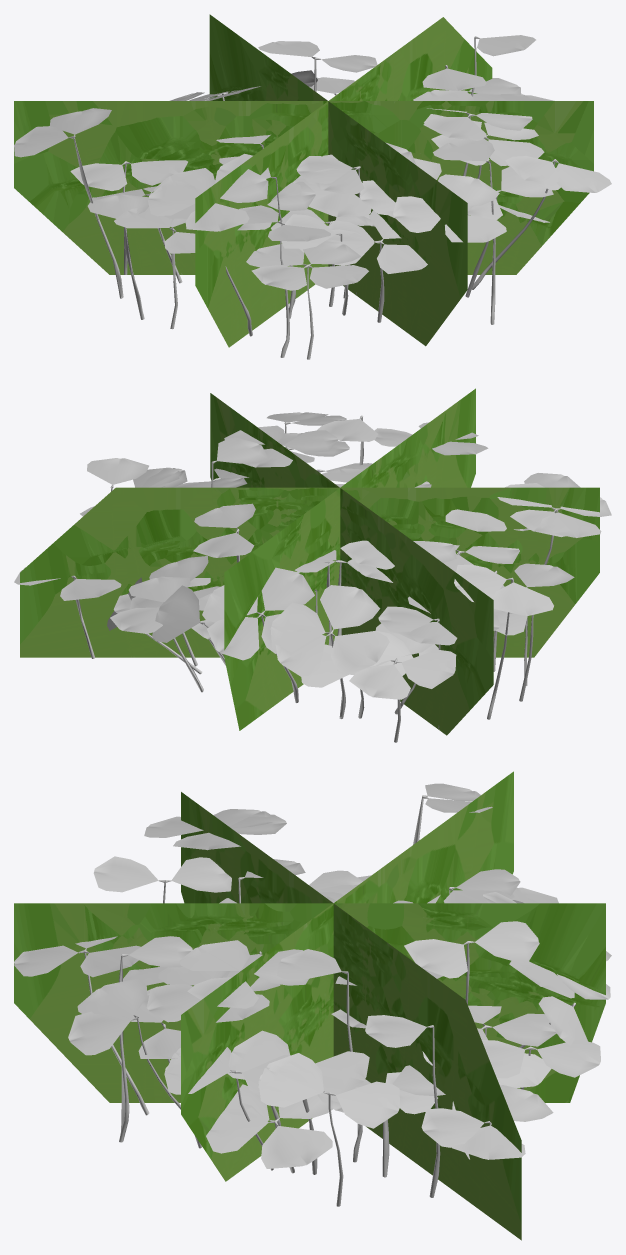
Rendered from PW_Dutch_Clover_1.fbx.
3 renders of one model, top to bottom at view 1: azimuth 30°, elevation 25°; view 2: azimuth 150°, elevation 25°; view 3: azimuth 270°, elevation 25°, orthographic. The views are drawn at different scales.
Visible parts, largest first — view 1: Billboard, LOD0; view 2: Billboard, LOD0; view 3: Billboard, LOD0.
Boxes of the visible parts, <box> form: Billboard: <box>14,14,593,347</box>; LOD0: <box>14,35,611,359</box>; Billboard: <box>20,388,599,735</box>; LOD0: <box>14,412,611,742</box>; Billboard: <box>14,771,605,1240</box>; LOD0: <box>14,783,611,1206</box>.
Size of what is drawn, in the model's own units: 53.03 by 17.02 by 45.71.
